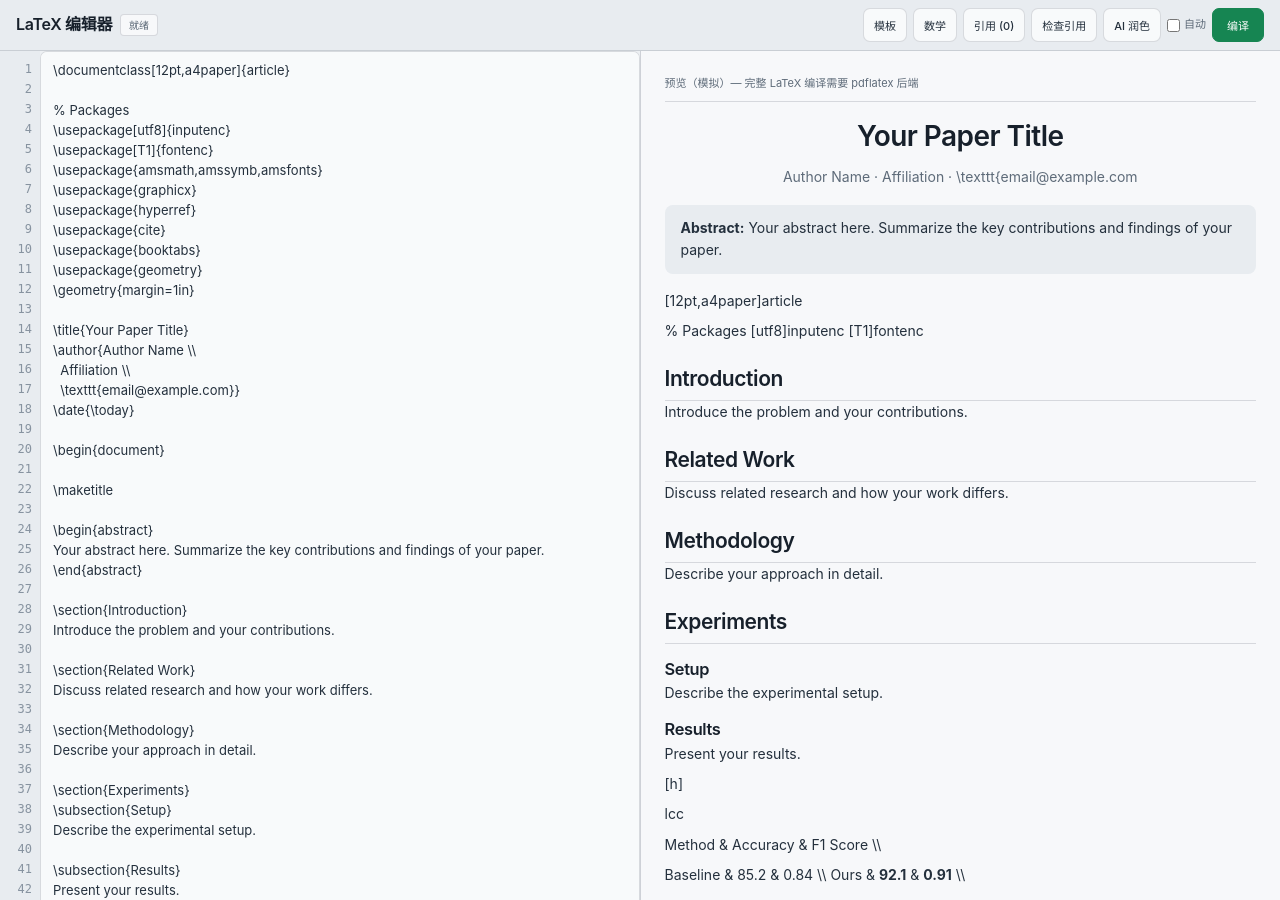
Test: LatexPreviewPage AI polish › polishes the selected editor text and replaces it on apply
Click the button with test id "latex-ai-polish" at (1132, 25), box 1103,8 -> 1161,42
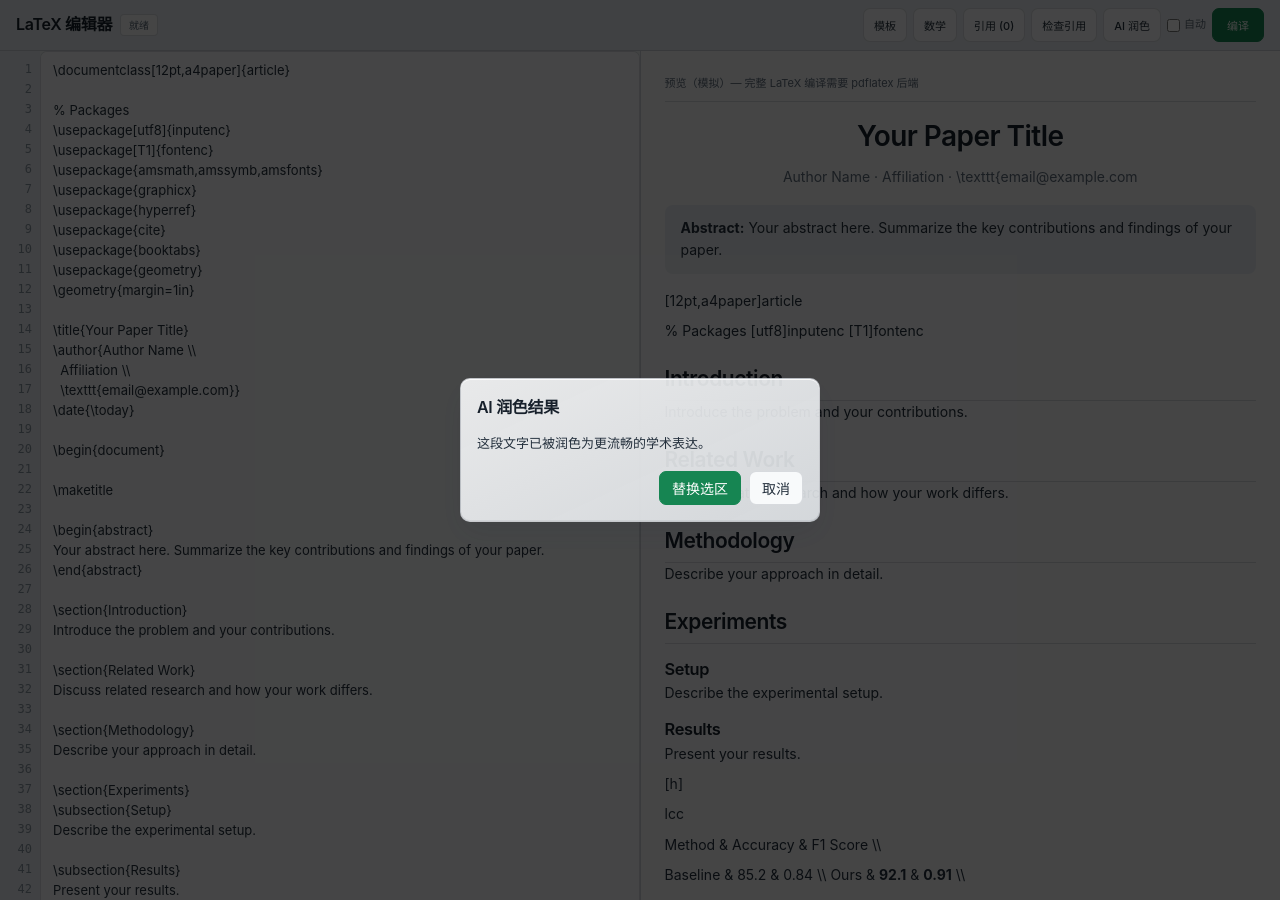
Expected: the element with test id "latex-ai-polish-modal" is shown, 460,378 -> 820,522
Click the button with test id "latex-ai-polish-apply" at (700, 488), box 659,471 -> 741,505
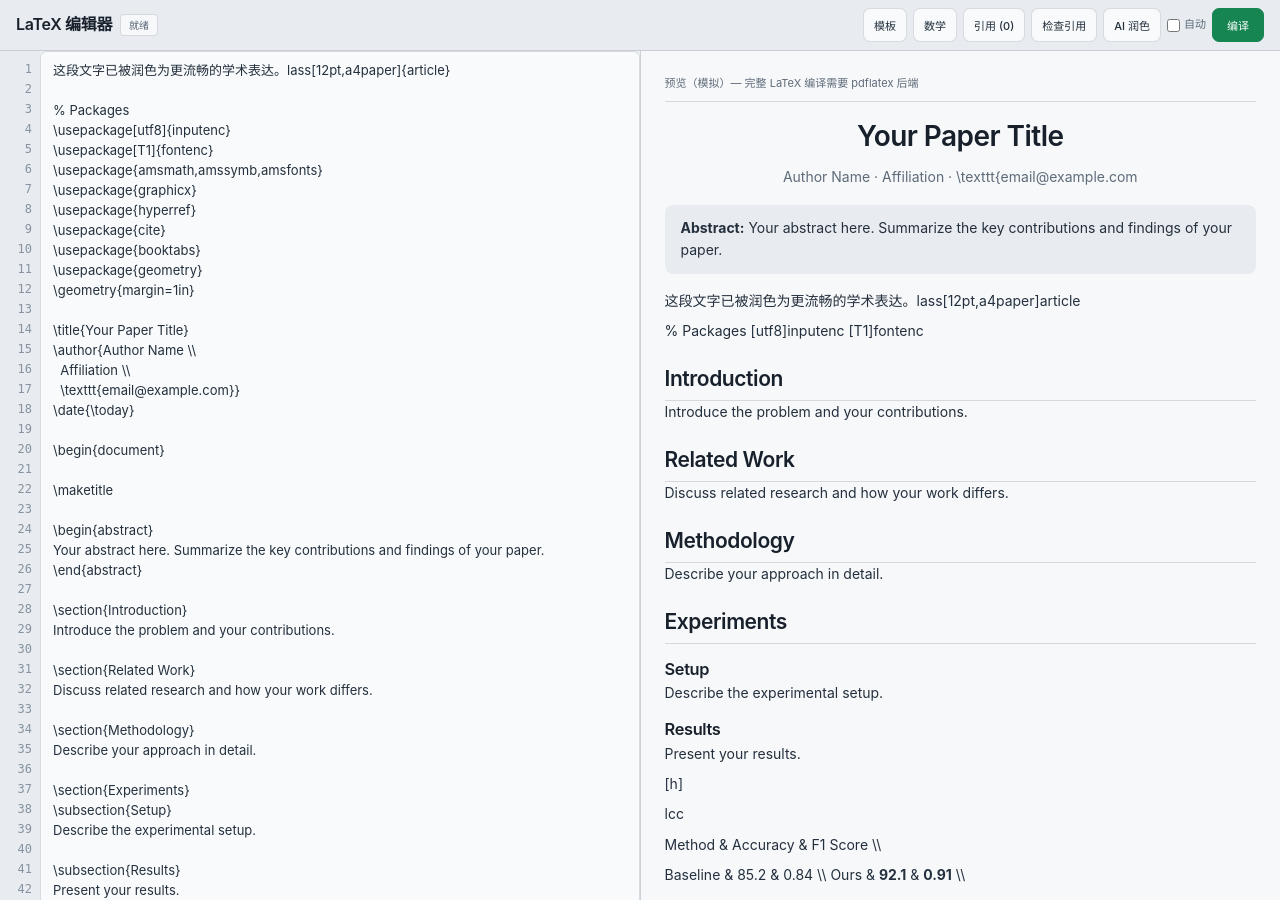
Expected: the element with test id "latex-ai-polish-modal" is gone
